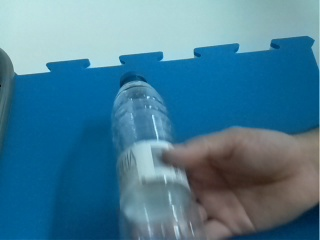botella plastico: (108, 70, 195, 240)
